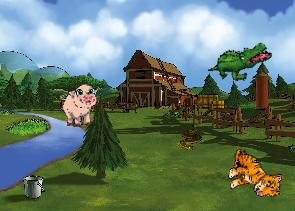crocodile: (206, 28, 274, 94)
pig: (60, 84, 100, 128)
tiger: (225, 148, 284, 199)
